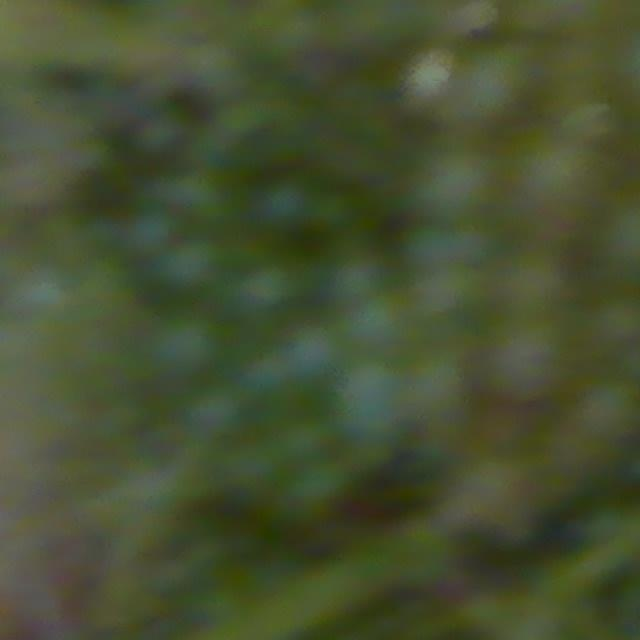SeaGrape: (410, 138, 520, 233), (508, 128, 608, 225), (481, 308, 578, 404), (476, 237, 567, 321), (454, 38, 540, 123), (393, 341, 475, 429), (332, 357, 410, 441), (415, 242, 486, 323), (148, 308, 223, 380), (345, 287, 415, 355), (232, 256, 304, 316), (254, 173, 319, 237), (323, 244, 389, 307), (280, 320, 342, 382), (183, 382, 246, 443), (160, 234, 224, 293)
